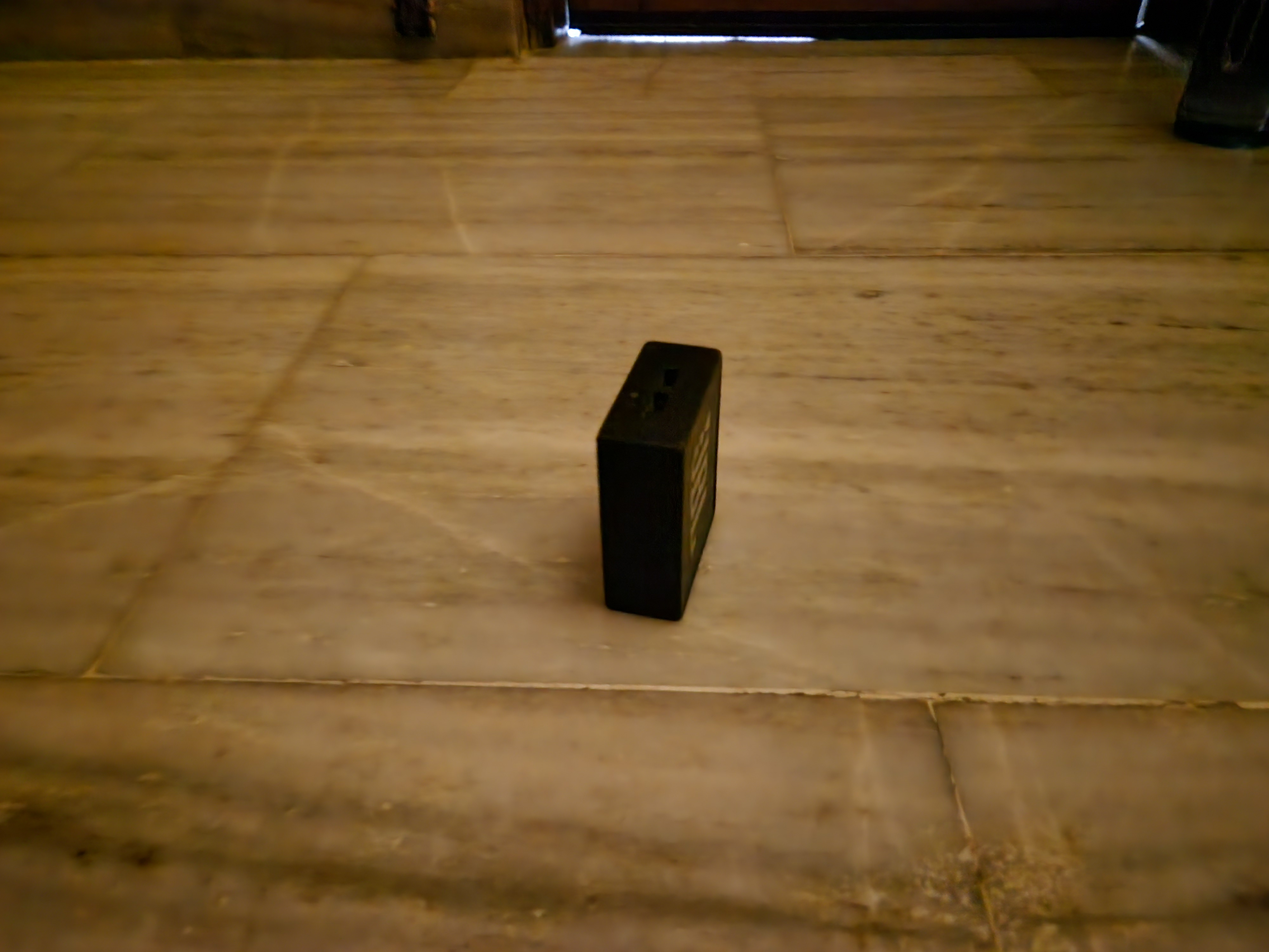speaker: (590, 338, 749, 625)
